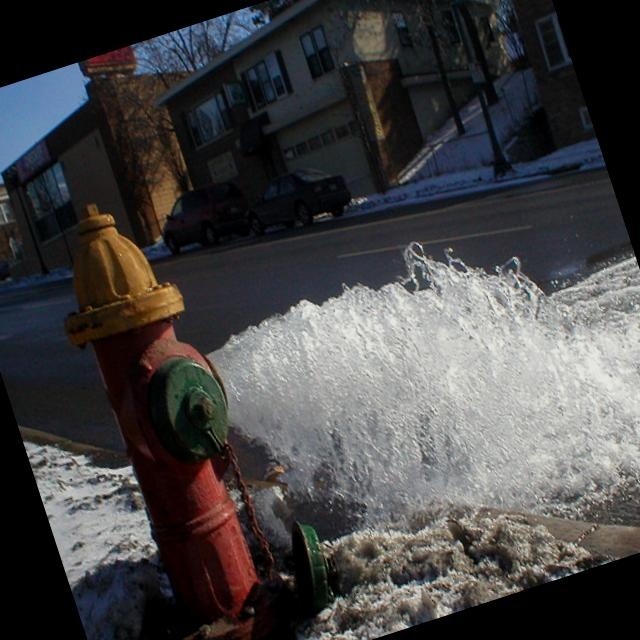Vehicle: (234, 154, 357, 245), (152, 175, 259, 262), (0, 257, 18, 280)
